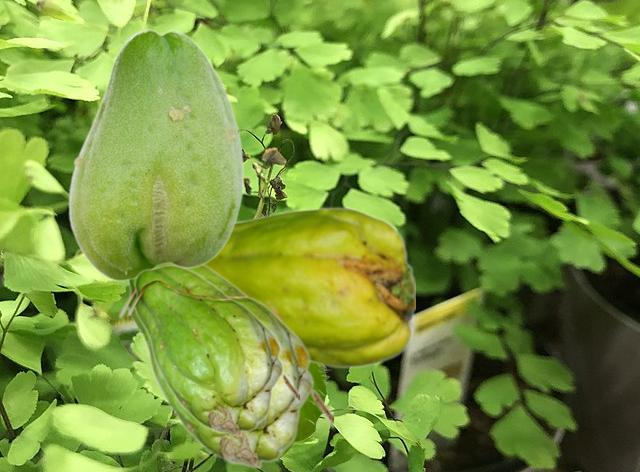sayote: (67, 28, 243, 280), (117, 264, 332, 468), (208, 206, 414, 368), (126, 264, 298, 436), (280, 364, 330, 459)
